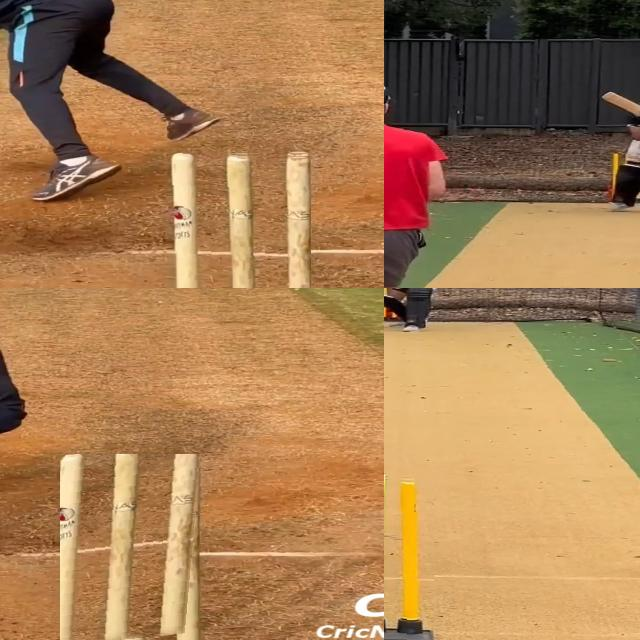Stumps: (59, 454, 202, 640), (169, 151, 311, 288), (384, 473, 433, 640)
